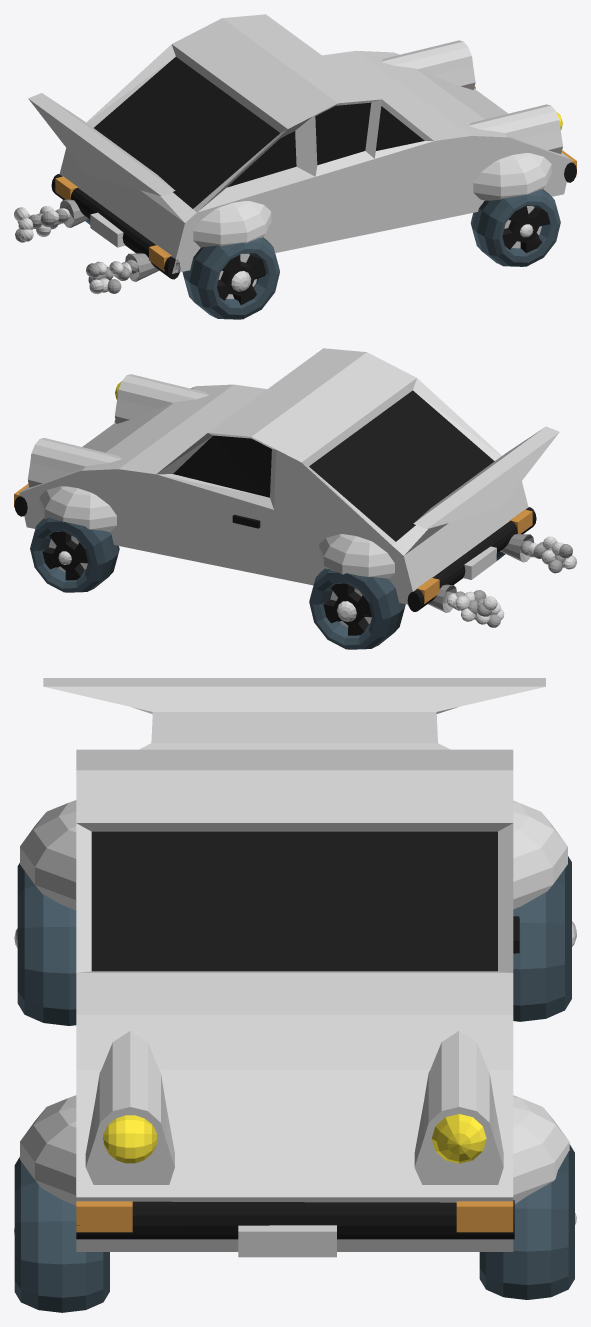
File: zenith.glb
The picture shows the model from 3 angles, top to bottom: view 1: azimuth 30°, elevation 25°; view 2: azimuth 150°, elevation 25°; view 3: azimuth 270°, elevation 25°; orthographic projection. The views are drawn at different scales.
Parts seen in each view (by area): view 1: group77139292, group1011238131, group396845406, group1300846469; view 2: group77139292, group1011238131, group396845406, group1300846469; view 3: group77139292, group1011238131, group1072085936, group1300846469.
Part boxes in pixels (bbox=[...]): group77139292: bbox=[14, 14, 576, 304]; group1011238131: bbox=[85, 189, 560, 319]; group396845406: bbox=[15, 199, 158, 293]; group1300846469: bbox=[55, 86, 576, 271]; group77139292: bbox=[14, 348, 576, 635]; group1011238131: bbox=[30, 517, 505, 649]; group396845406: bbox=[428, 534, 572, 627]; group1300846469: bbox=[14, 420, 532, 603]; group77139292: bbox=[14, 678, 576, 1257]; group1011238131: bbox=[14, 856, 574, 1312]; group1072085936: bbox=[103, 1114, 486, 1163]; group1300846469: bbox=[76, 1201, 513, 1232].
Size of the model in its own units: 0.7302 by 0.2942 by 0.3994.
